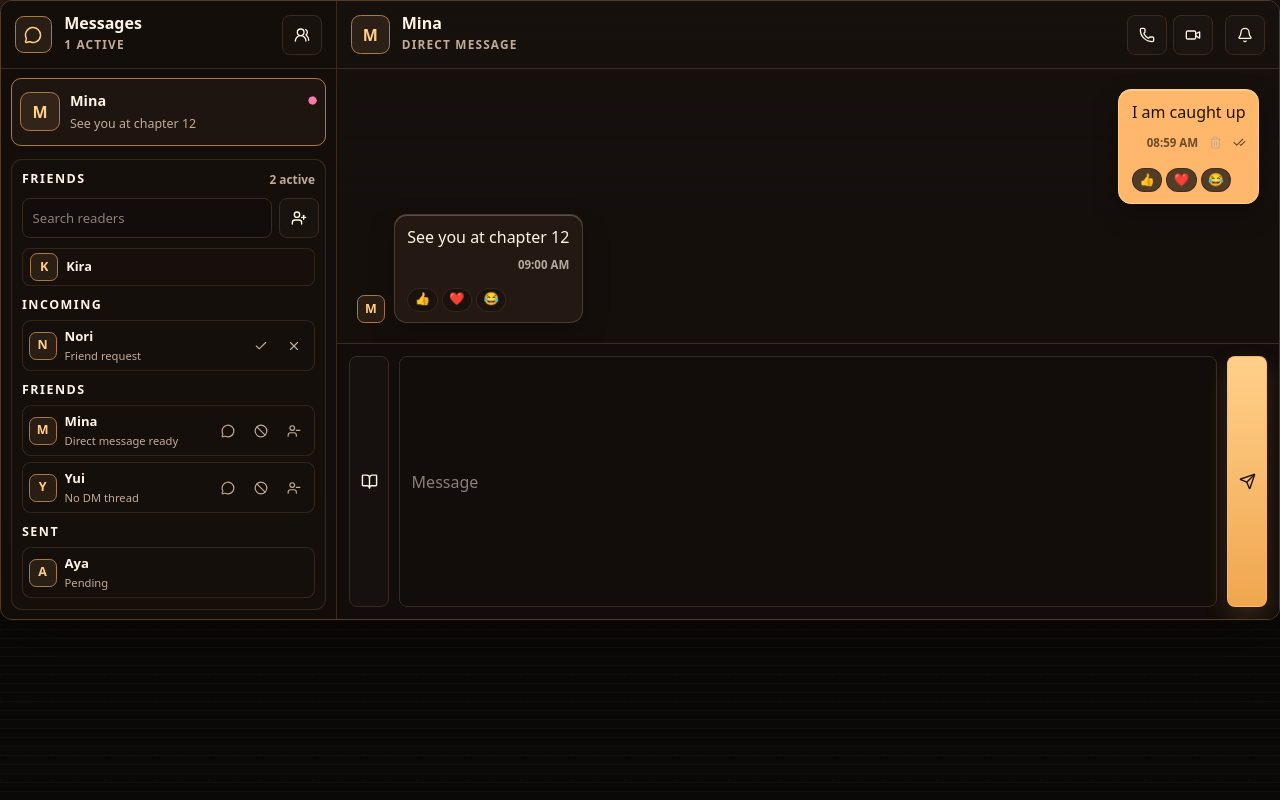
Test case: SocialChatPage › creates a group conversation from accepted friends
Expected: the text "See you at chapter 12" below "Messages" is shown, [70,115,196,132]
Click the button named "Create group" at (302, 35), box [282,15,322,55]
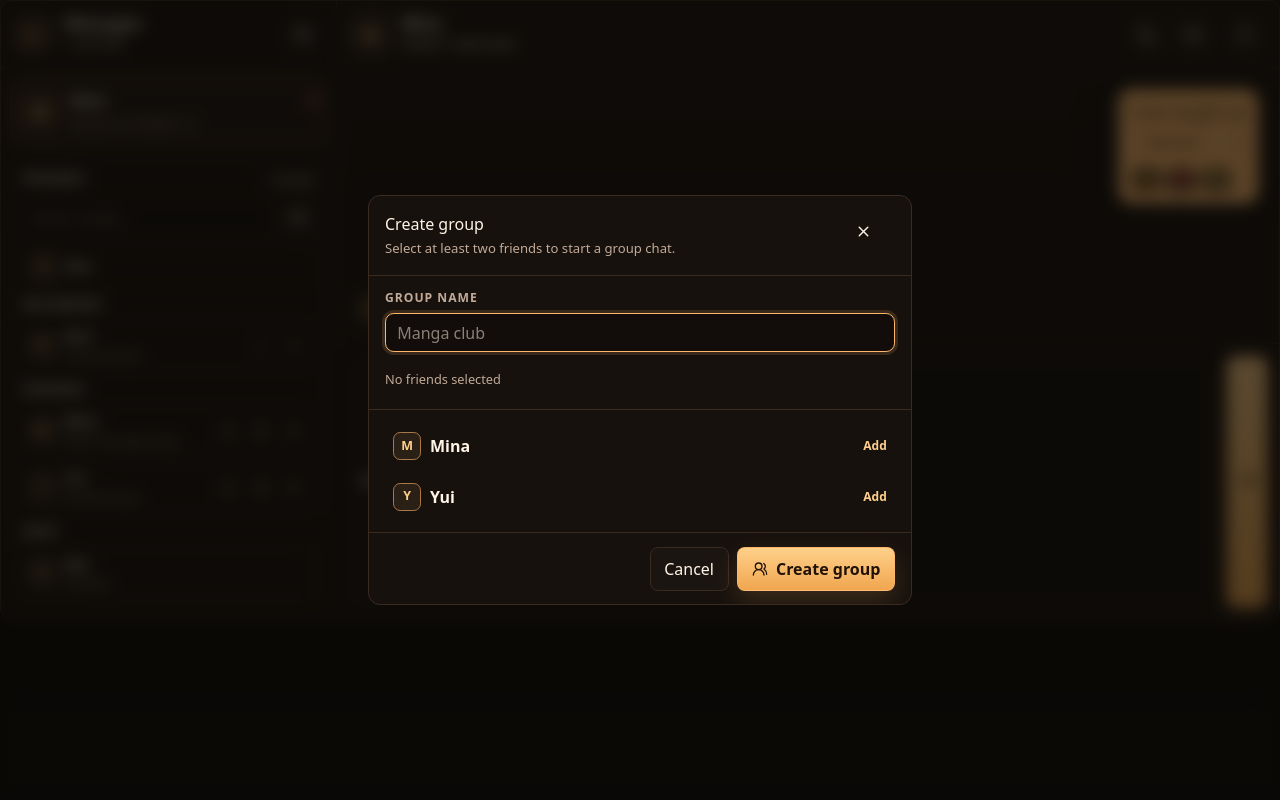
Type "Manga Club" into the field labelled "Group name" at (640, 333), box [385,313,895,352]
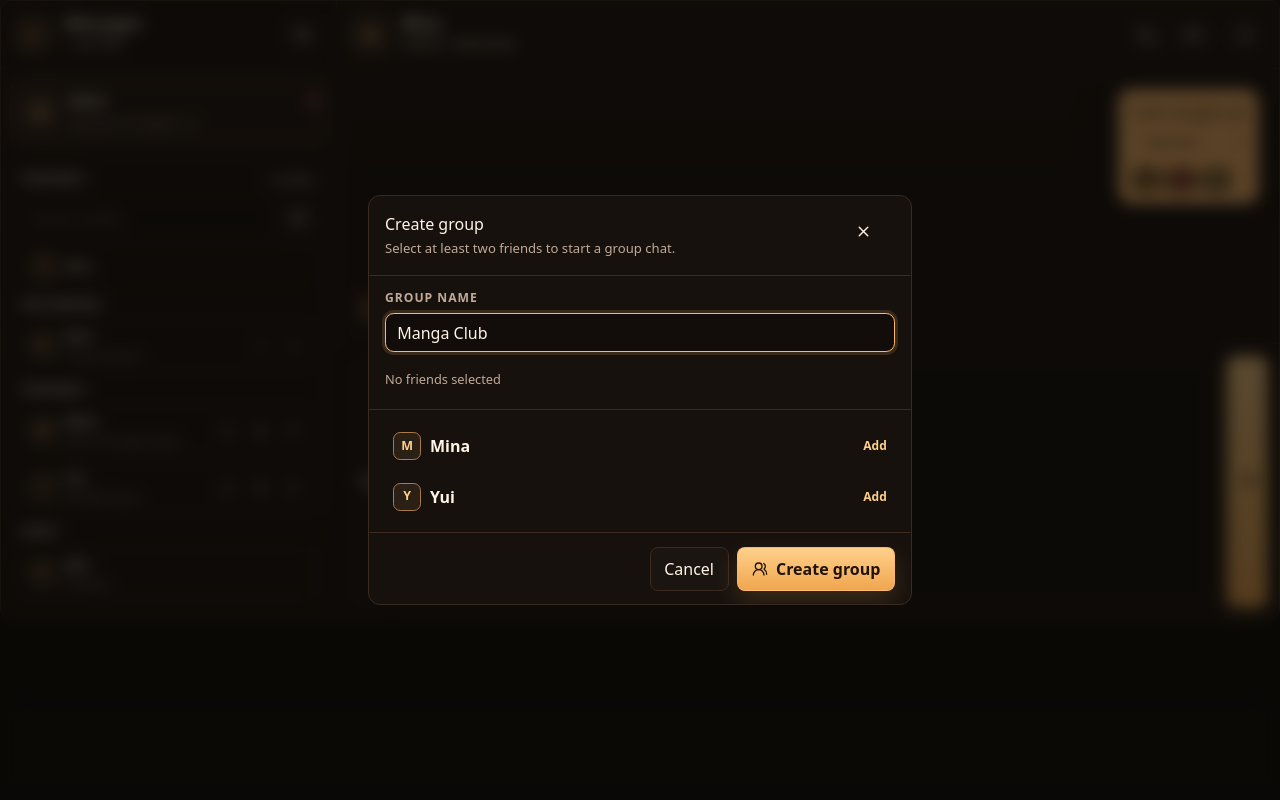
Click the button with aria-label "Select Mina" at (450, 446), box [385,424,895,468]
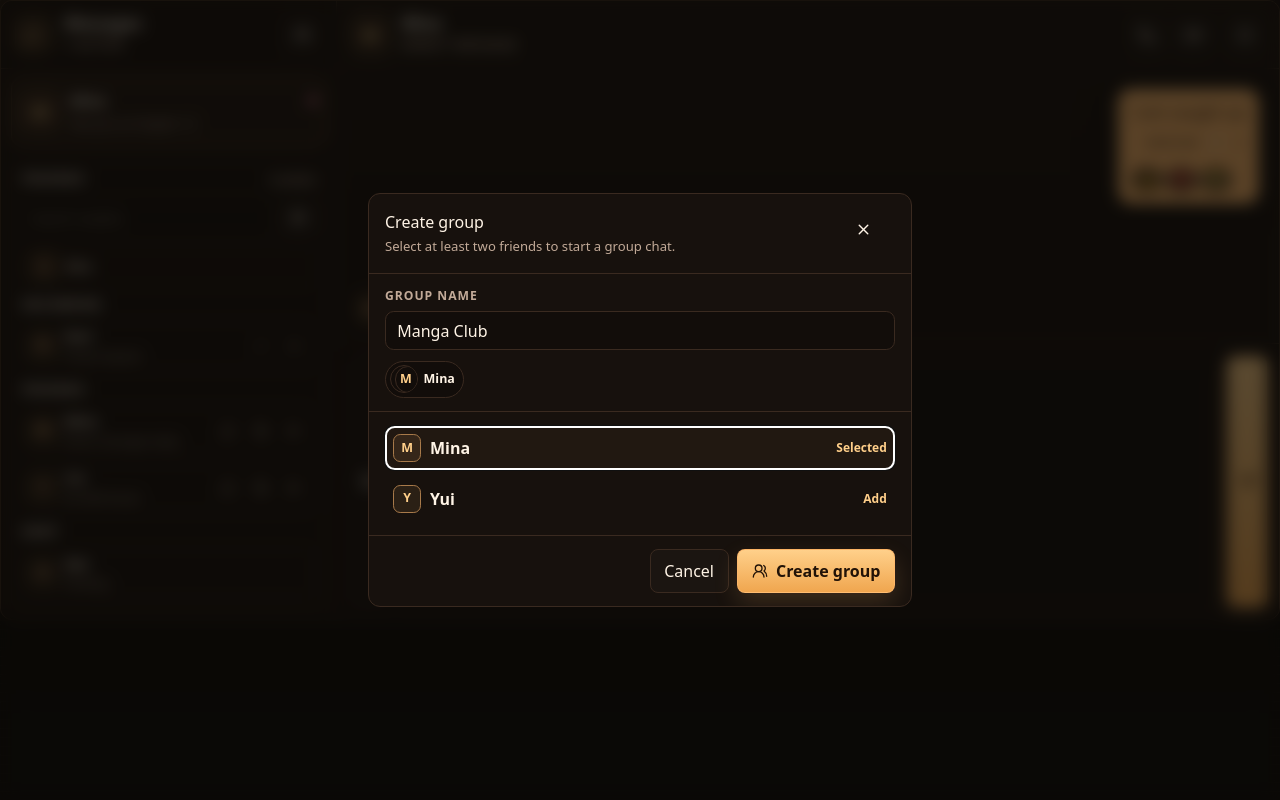
Click the button with aria-label "Select Yui" at (407, 499), box [385,477,895,521]
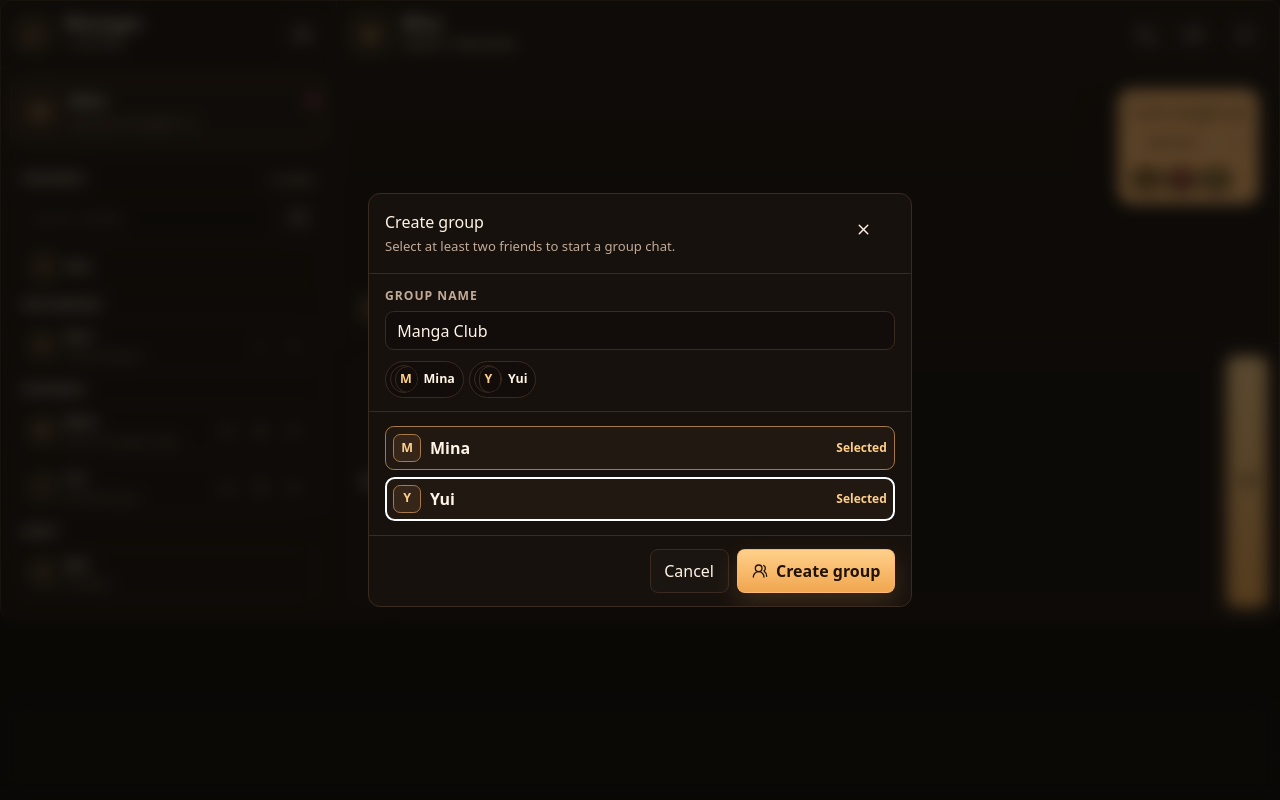
Click the button "Create group" at (816, 571), box [737,549,895,593]
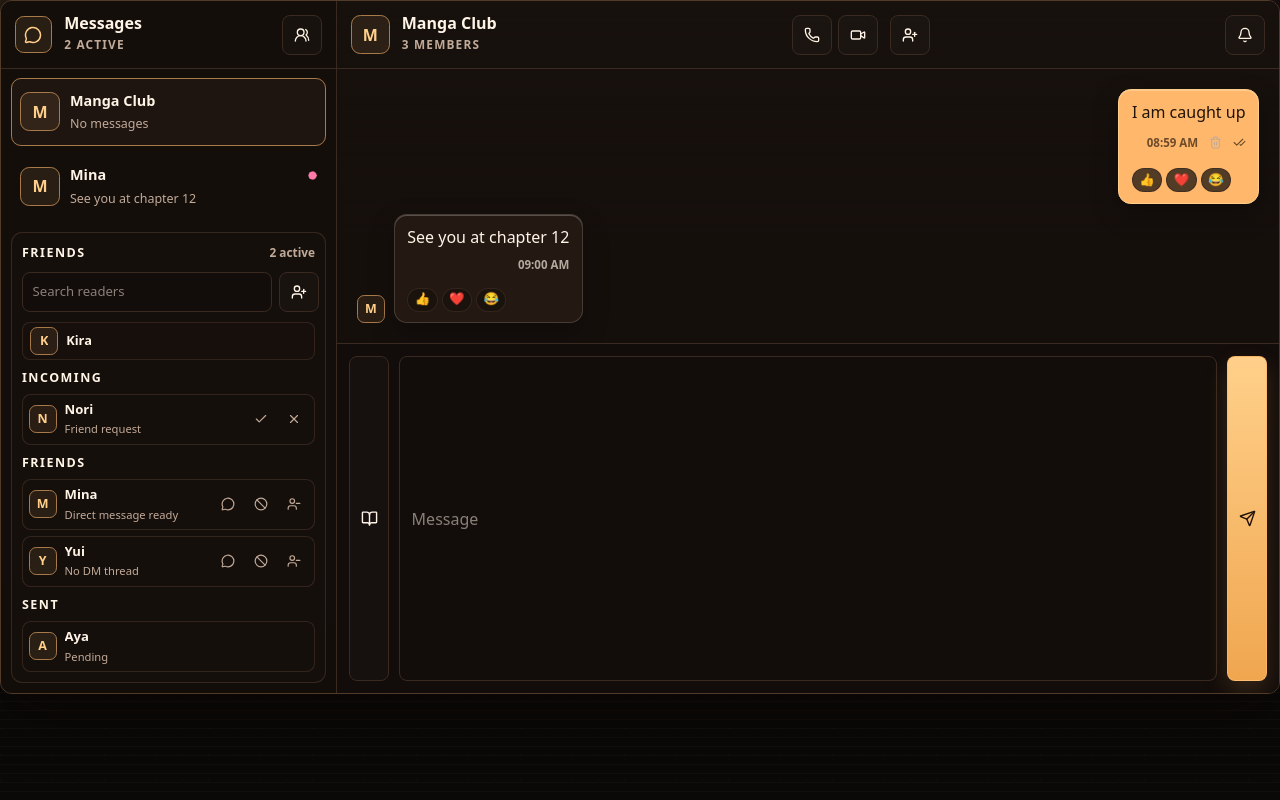
Expected: the heading "Manga Club" is shown, [402,15,497,33]
Expected: the text "3 members" is shown, [402,36,480,52]
